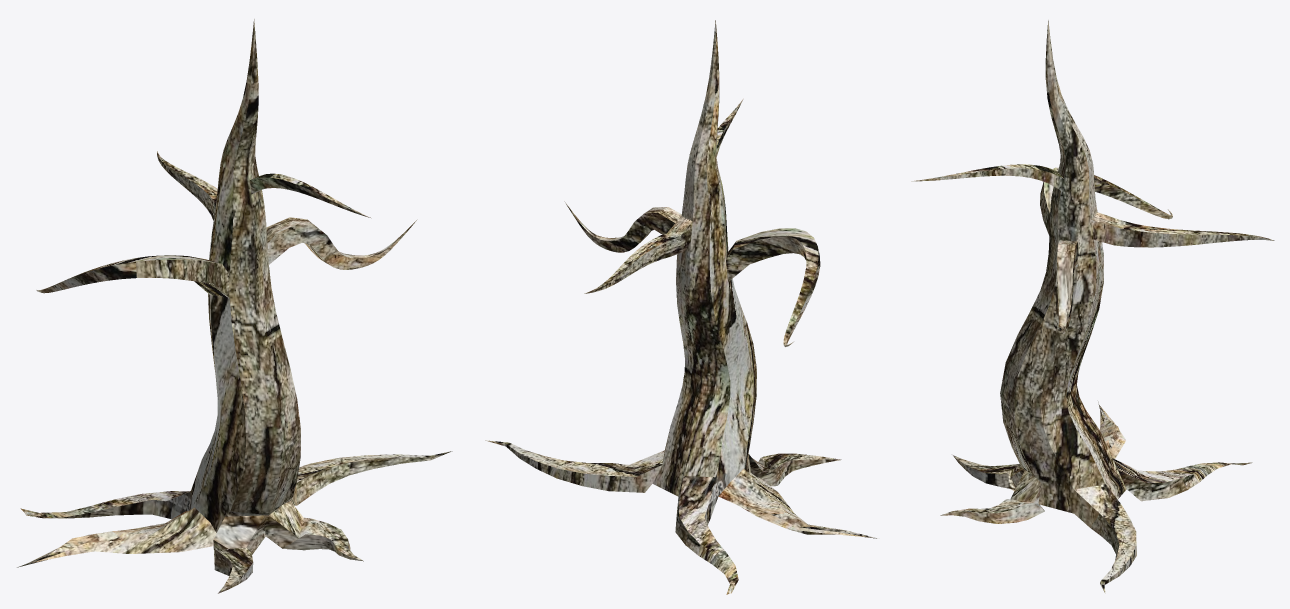
The model's file is Dead Tree.fbx.
The picture shows the model from 3 angles, left to right: view 1: azimuth 30°, elevation 25°; view 2: azimuth 150°, elevation 25°; view 3: azimuth 270°, elevation 25°; orthographic projection. The views are drawn at different scales.
Parts seen in each view (by area): view 1: pCylinder1; view 2: pCylinder1; view 3: pCylinder1.
Boxes of the visible parts, <box> form: pCylinder1: <box>17,19,452,593</box>; pCylinder1: <box>485,20,877,594</box>; pCylinder1: <box>911,20,1274,593</box>.
Bounding box in the file's own units: 9.06 × 10.66 × 6.99.
1 material, 1 textured.
